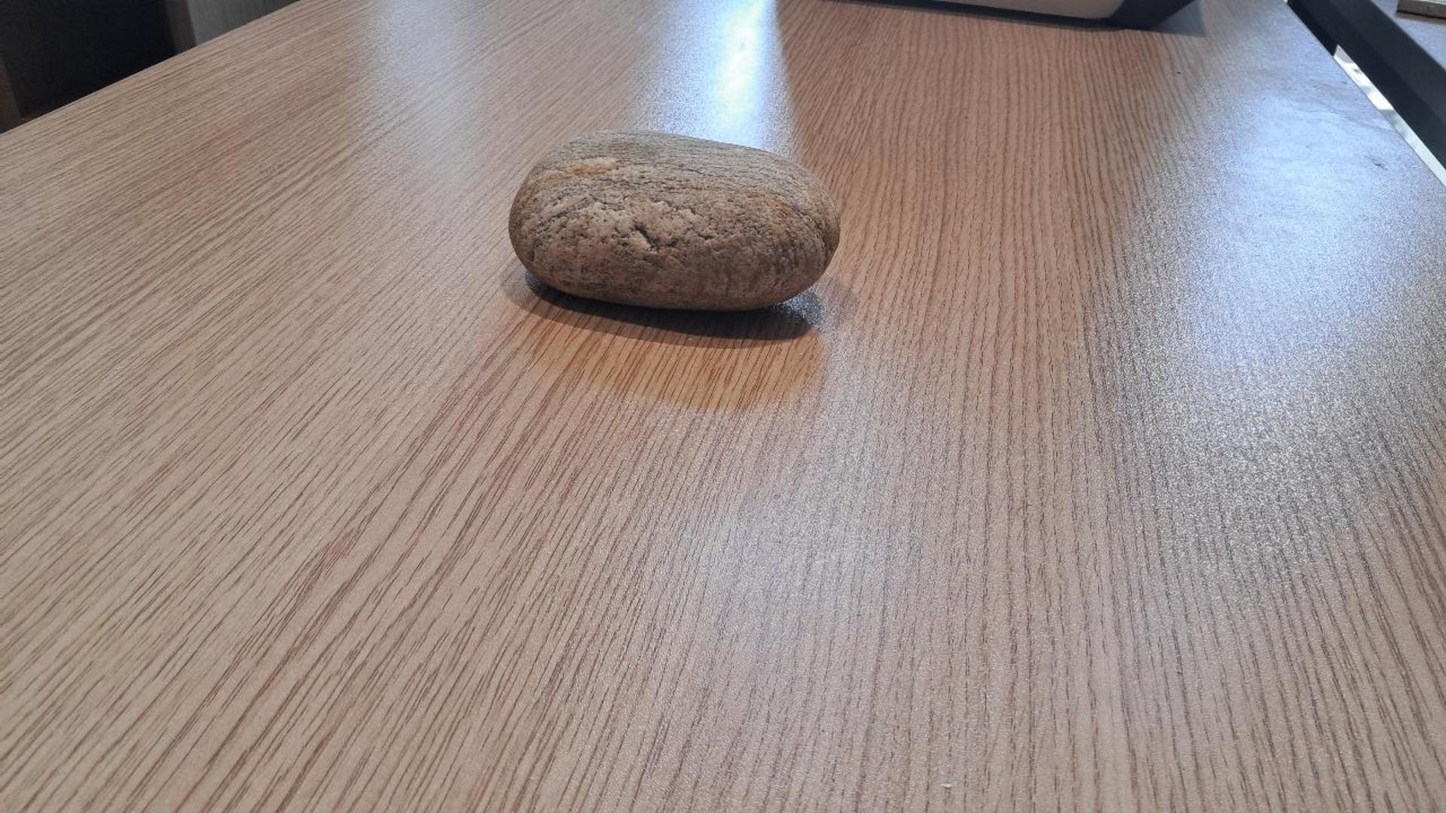rock: (508, 130, 838, 311)
